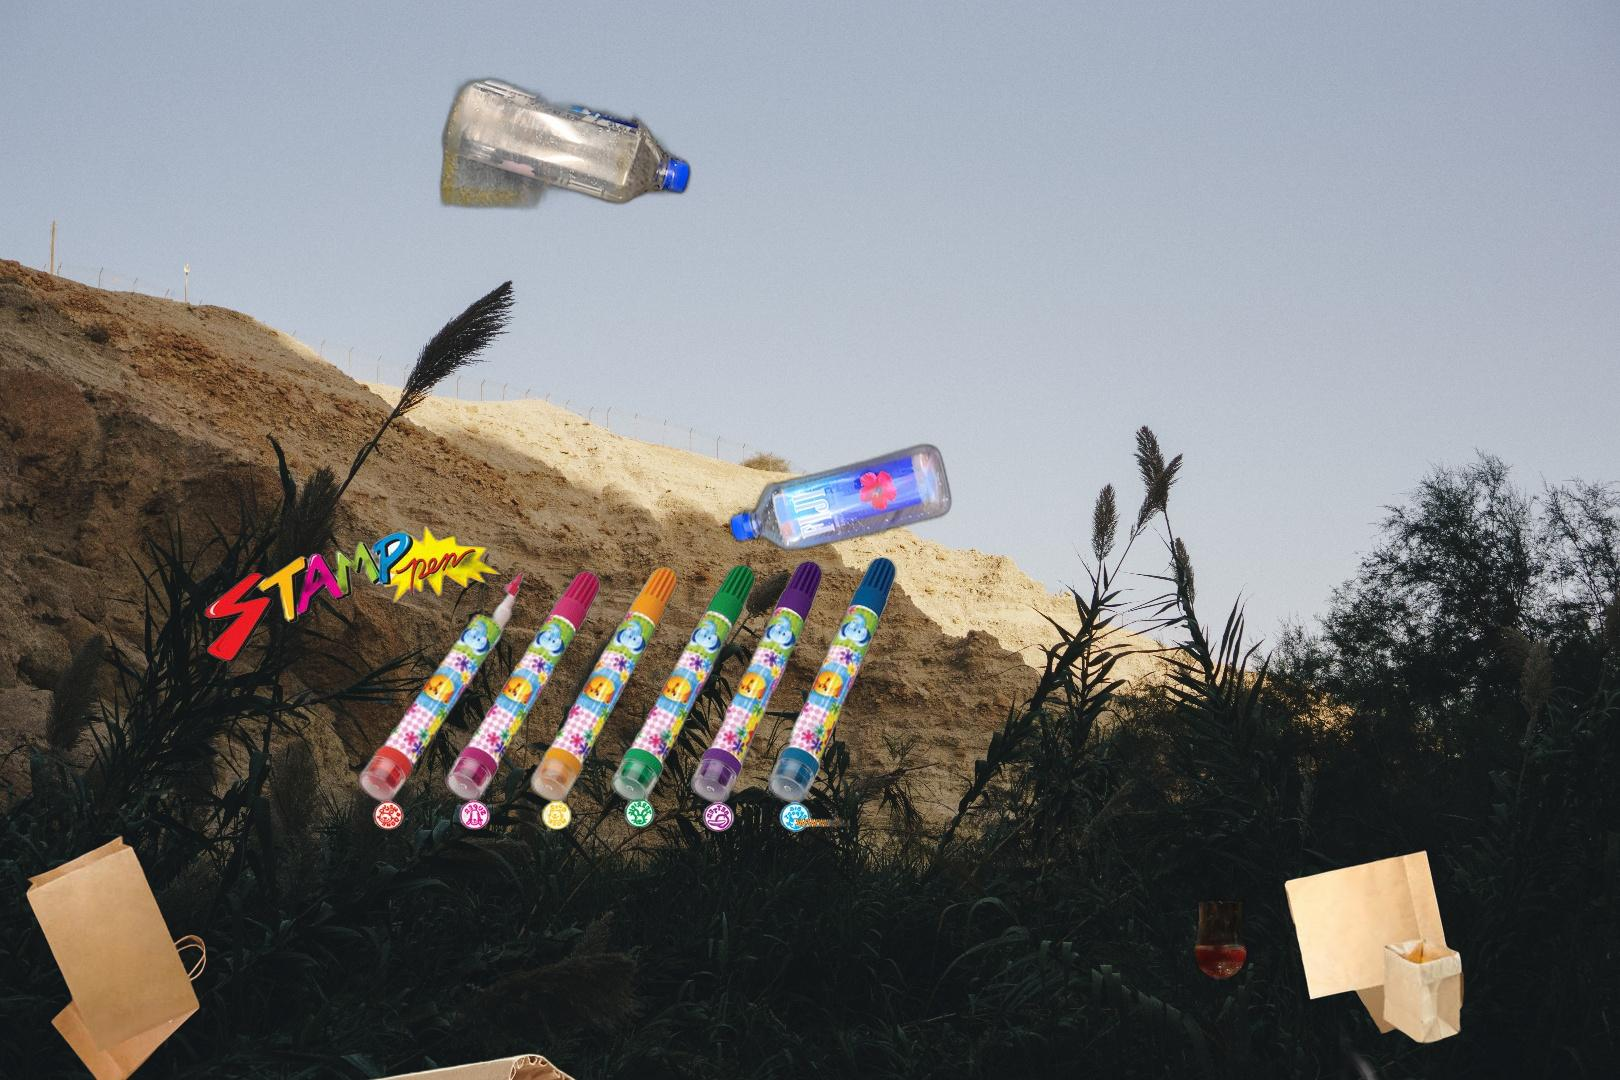paper-bag: (1191, 847, 1467, 1046), (23, 833, 209, 1080)
penholder: (202, 523, 926, 833)
plastic-bottles: (434, 25, 703, 215), (724, 438, 956, 556)
trashbox-cardboard: (824, 892, 1620, 1080), (61, 1049, 692, 1080)
